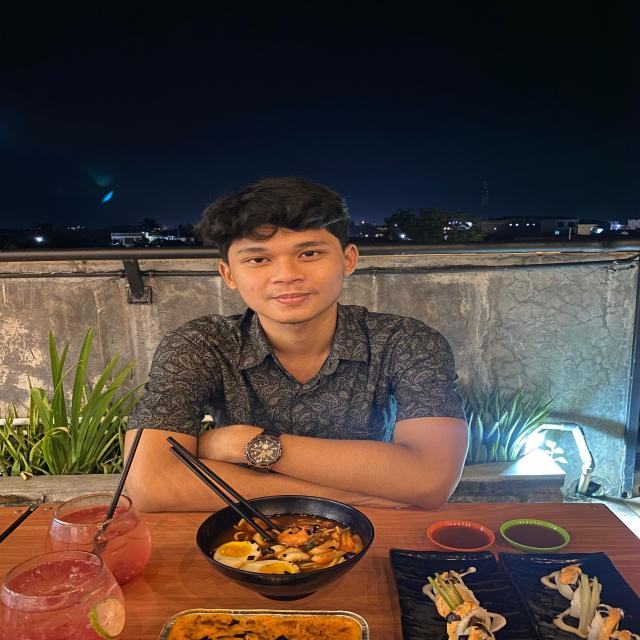nohelmet: (203, 176, 361, 319)
